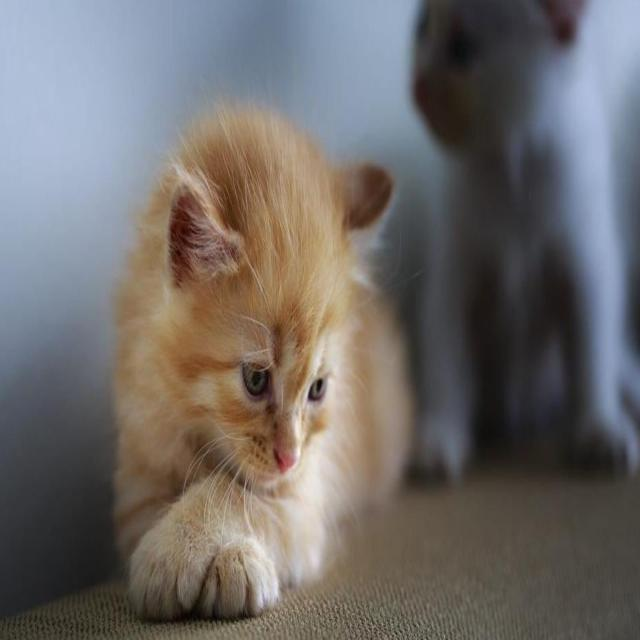Cat: (135, 89, 394, 497)
